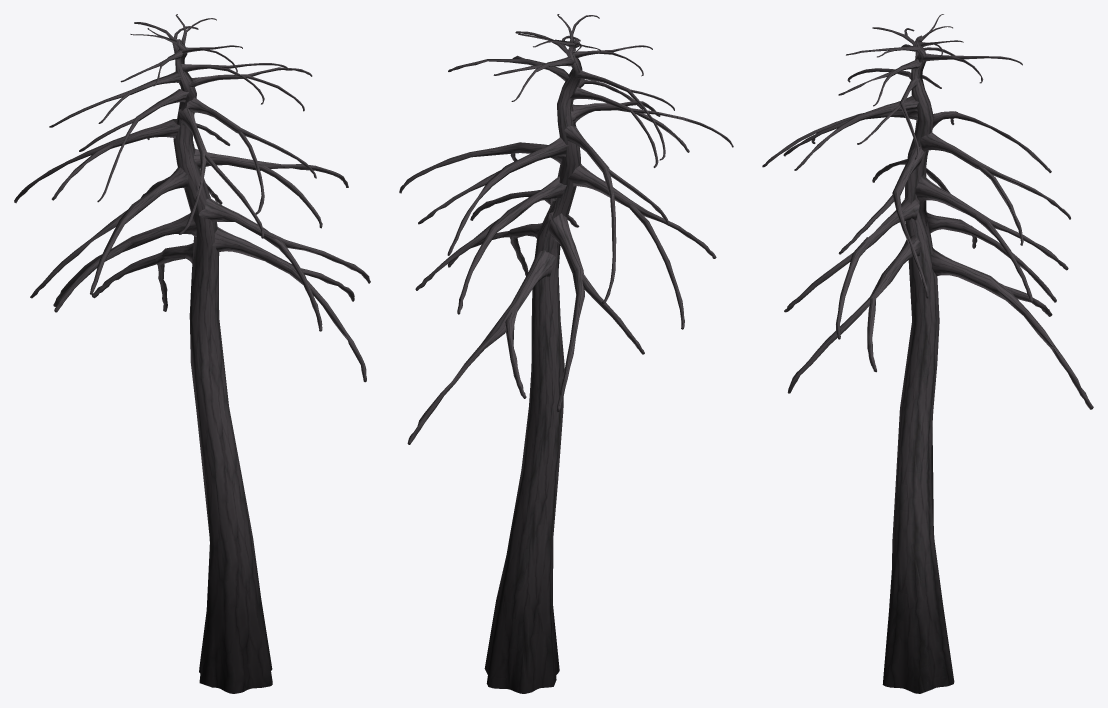
The model's file is dead-tree-3.glb.
The picture shows the model from 3 angles, left to right: view 1: azimuth 30°, elevation 25°; view 2: azimuth 150°, elevation 25°; view 3: azimuth 270°, elevation 25°; orthographic projection. The views are drawn at different scales.
Visible parts, largest first — view 1: DeadTree_3; view 2: DeadTree_3; view 3: DeadTree_3.
Part boxes in pixels (<box>): DeadTree_3: <box>14,14,370,693</box>; DeadTree_3: <box>399,14,733,693</box>; DeadTree_3: <box>762,14,1093,693</box>.
Size of the model in its own units: 6.39 by 13.28 by 6.43.
1 material, 1 textured.
